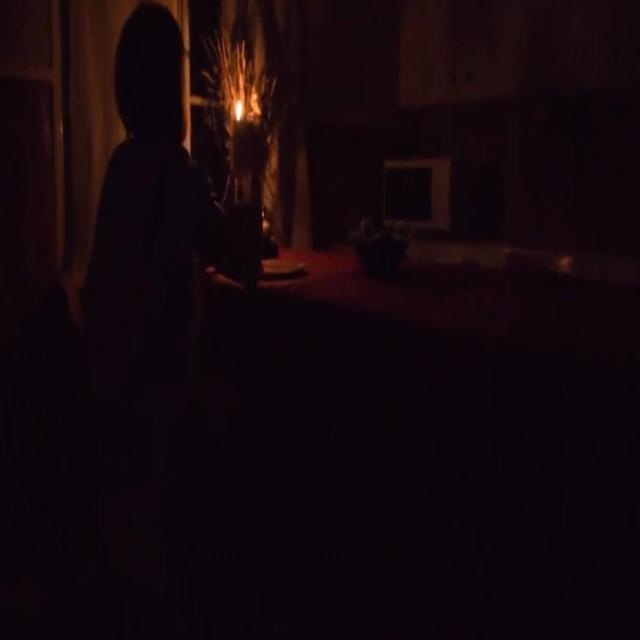smoke: (232, 94, 246, 125)
